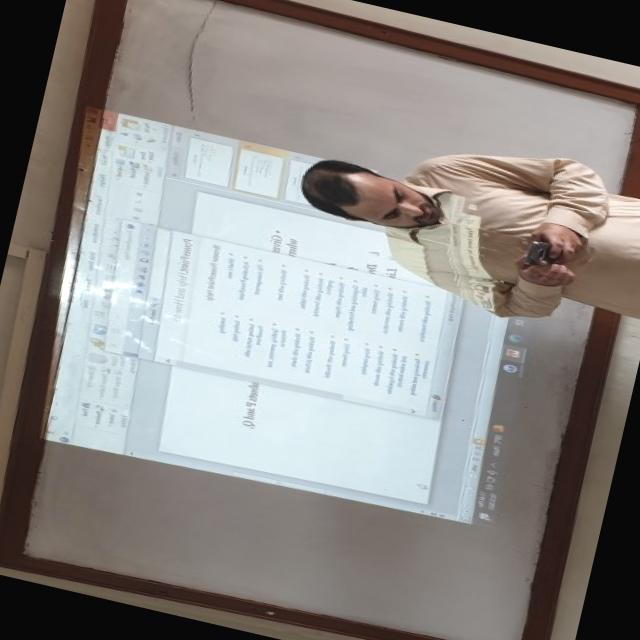Instructor: (262, 116, 640, 317)
Slide: (30, 102, 567, 532)
White-board: (2, 0, 640, 640)
